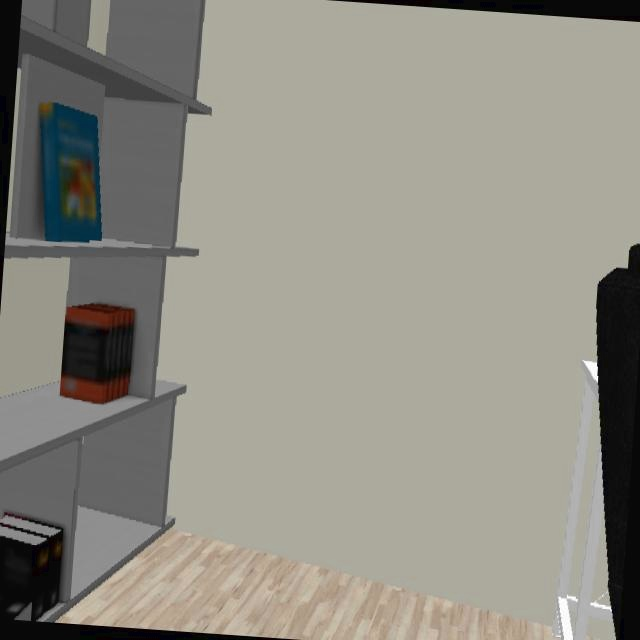book: (34, 101, 102, 246), (59, 304, 135, 405), (0, 512, 65, 621)
chair: (595, 245, 640, 640)
shelf: (0, 0, 212, 622)
table: (553, 361, 612, 640)
